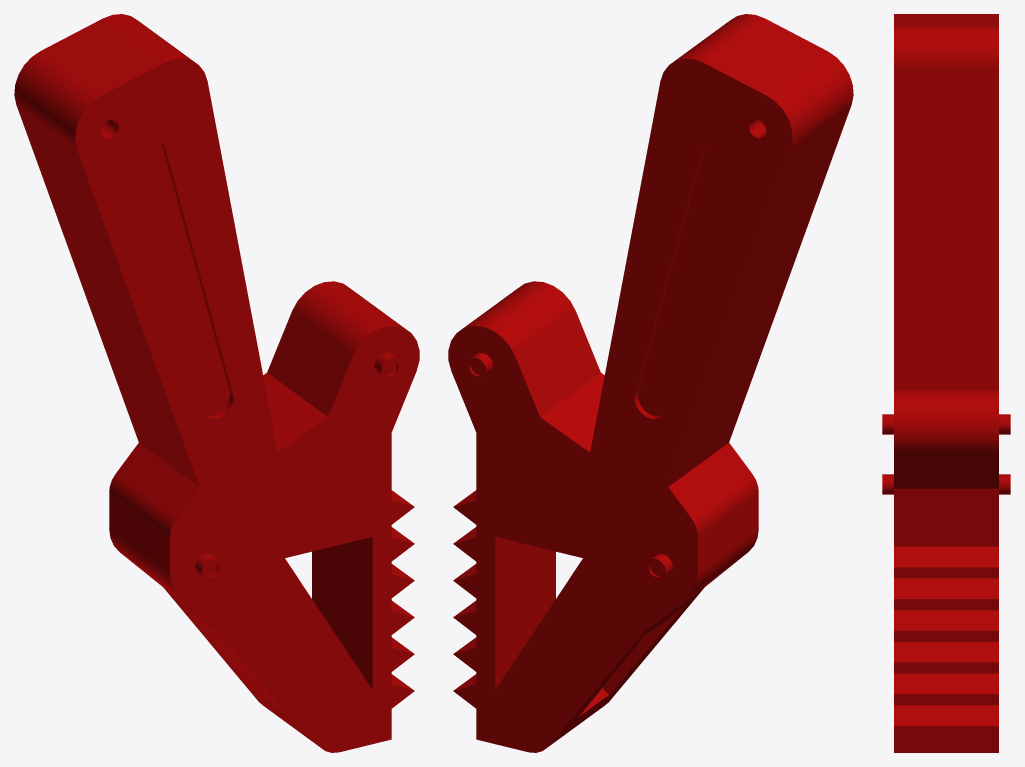
The picture shows the model from 3 angles, left to right: view 1: azimuth 30°, elevation 25°; view 2: azimuth 150°, elevation 25°; view 3: azimuth 270°, elevation 25°; orthographic projection. The views are drawn at different scales.
Parts seen in each view (by area): view 1: Solid1; view 2: Solid1; view 3: Solid1.
Boxes of the visible parts, x1,y1,x2,y2 form: Solid1: (14, 14, 419, 752); Solid1: (448, 14, 853, 752); Solid1: (882, 14, 1010, 752).
Bounding box in the file's own units: 0.0588 × 0.1196 × 0.022.
